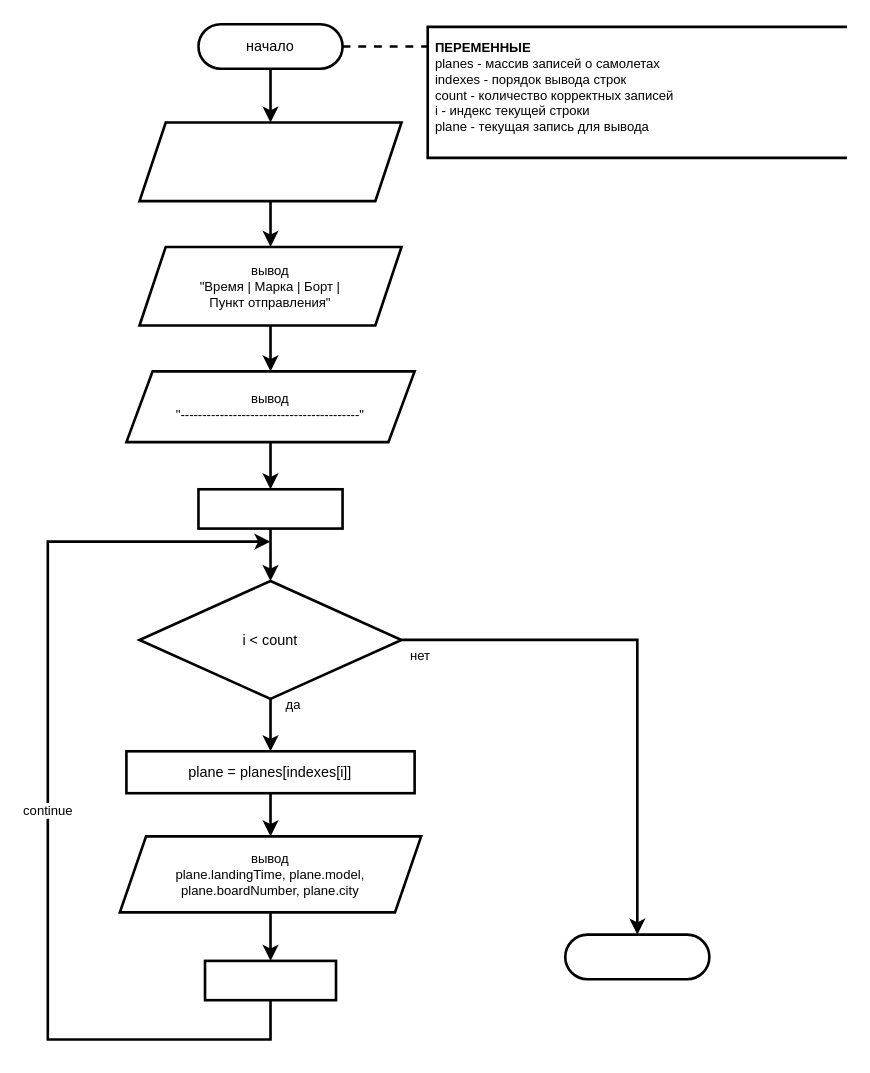
Some shapes in this 870 by 1073 pixel diagram are drawn without their labels. Each missing label, with the centre of its shape:
i = 0: (269,508)
i++: (270,980)
вывод "Самолеты по возрастанию времени посадки": (270,161)
конец: (636,956)
